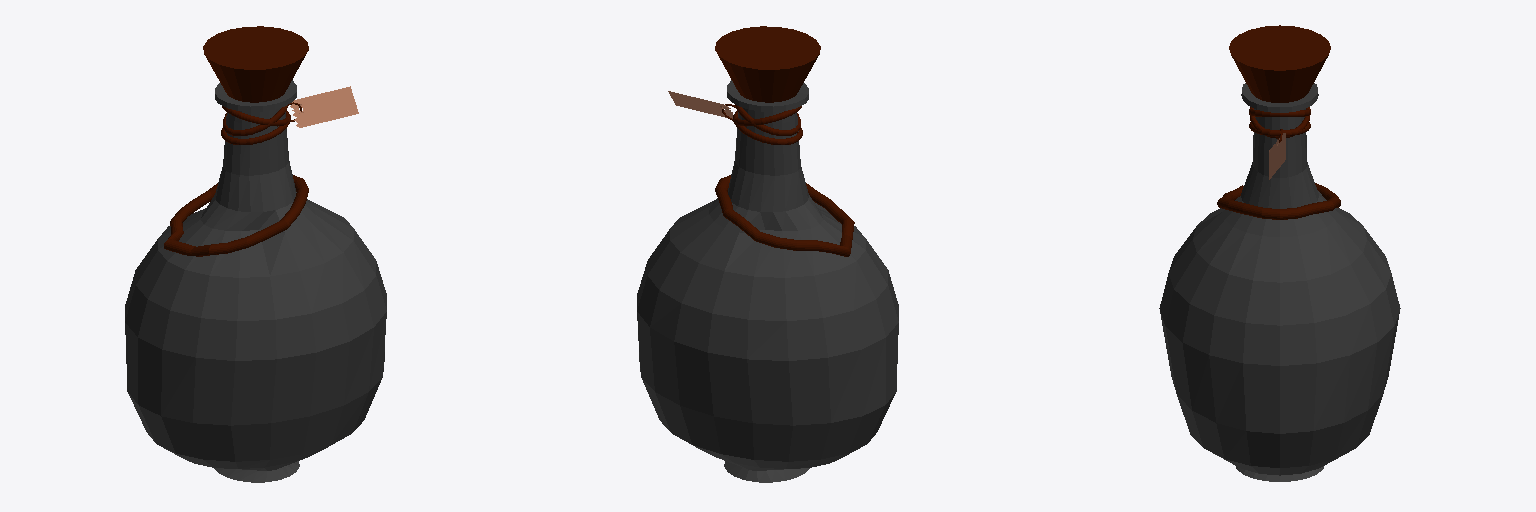
The model's file is potionobj.obj.
3 renders of one model, left to right at view 1: azimuth 30°, elevation 25°; view 2: azimuth 150°, elevation 25°; view 3: azimuth 270°, elevation 25°, orthographic.
Visible parts, largest first — view 1: pTorus6; view 2: pTorus6; view 3: pTorus6.
Part boxes in pixels (x1,y1,x2,y2): pTorus6: (125,26,386,482); pTorus6: (637,26,898,482); pTorus6: (1159,25,1400,481).
Size of the model in its own units: 13.16 by 22.12 by 11.63.